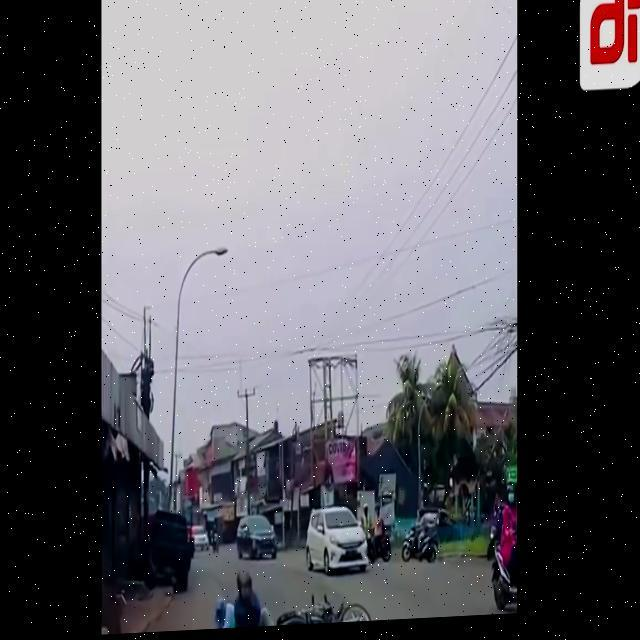normal: (297, 479, 381, 585), (236, 513, 278, 560)
